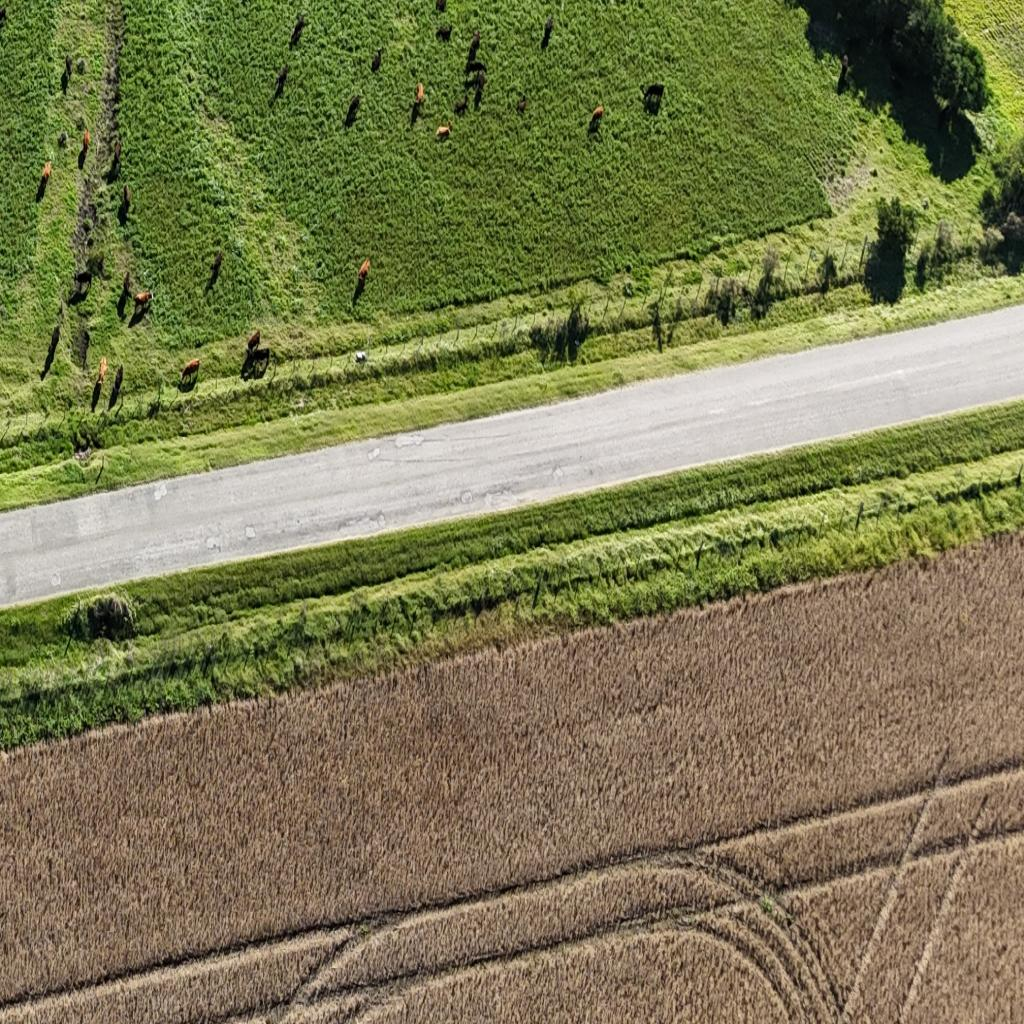cow: (41, 325, 61, 377), (464, 29, 484, 74), (130, 295, 152, 324), (109, 365, 123, 410), (117, 274, 131, 317), (642, 83, 664, 110), (91, 371, 104, 413), (290, 14, 307, 46), (38, 161, 52, 199), (73, 268, 92, 296), (344, 94, 360, 127), (180, 357, 200, 383), (472, 73, 486, 110), (108, 143, 121, 180), (413, 80, 425, 120), (354, 271, 368, 305), (274, 65, 288, 98), (209, 249, 223, 281), (541, 15, 554, 49), (95, 354, 108, 388), (118, 185, 130, 221), (241, 348, 255, 378), (838, 52, 848, 90), (436, 21, 453, 41), (62, 56, 72, 90), (371, 46, 384, 72), (247, 332, 261, 356), (588, 108, 603, 130), (436, 119, 452, 139), (454, 95, 468, 117), (135, 290, 153, 306), (359, 261, 371, 283), (0, 6, 8, 38), (516, 92, 527, 115), (82, 127, 90, 155), (112, 85, 122, 107), (124, 272, 132, 294), (436, 0, 448, 13)
